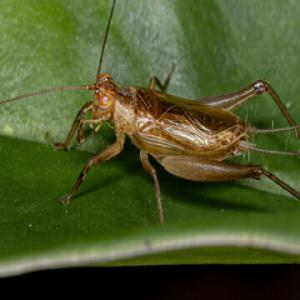locust: (80, 60, 300, 186)
